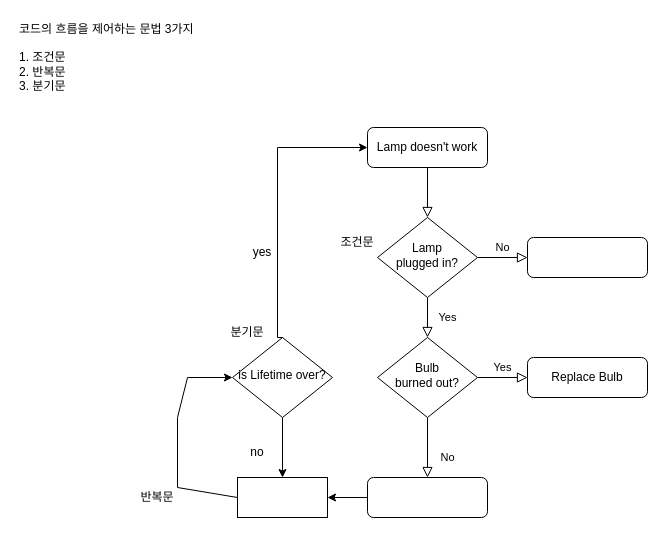
The diagram is 665 pixels wide and 535 high, and some of its shapes have lost their labels. Here are the shapes that lost their labels. From the top down, the box of each, then its label:
(526, 236, 648, 278): Plug in lamp
(236, 476, 328, 518): TimePass...
(366, 476, 488, 518): Repair Lamp
